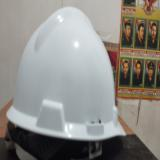Helmet: (7, 6, 126, 141)
